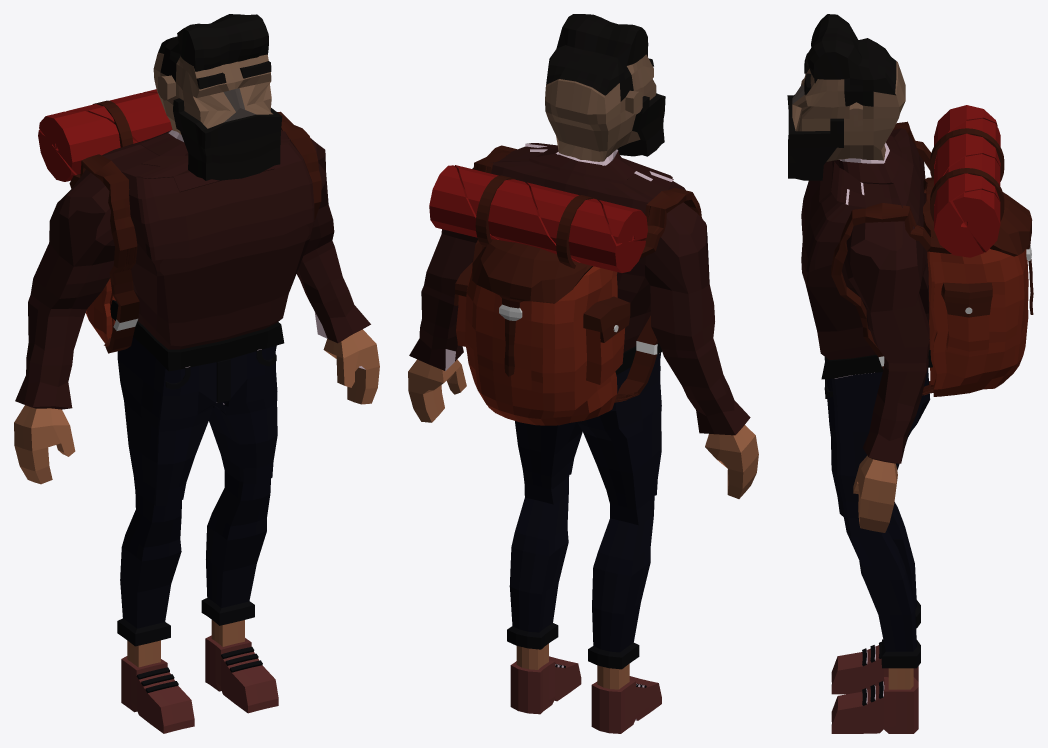
The model's file is Character.fbx.
3 renders of one model, left to right at view 1: azimuth 30°, elevation 25°; view 2: azimuth 150°, elevation 25°; view 3: azimuth 270°, elevation 25°, orthographic. The views are drawn at different scales.
Parts seen in each view (by area): view 1: Cube.003; view 2: Cube.003; view 3: Cube.003.
Part boxes in pixels (x1,y1,x2,y2): Cube.003: (14,14,379,733); Cube.003: (408,14,758,733); Cube.003: (787,14,1033,733).
Bounding box in the file's own units: 323 × 204 × 619.
